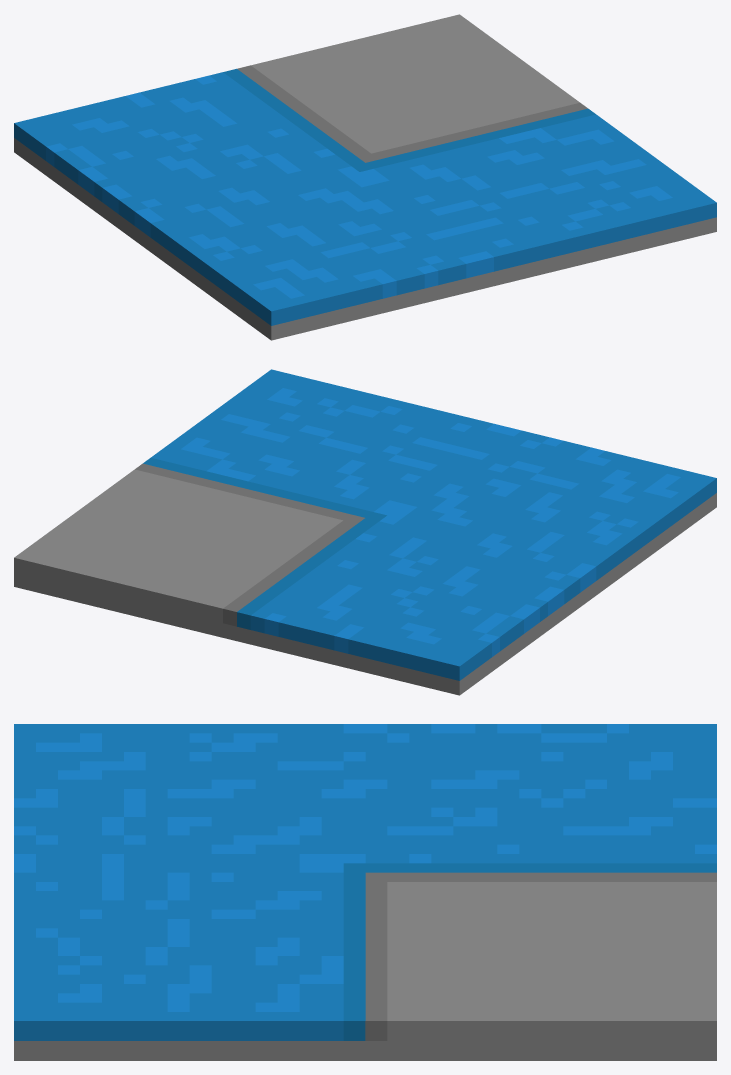
File: city-water-edgy-edge-outer-2.gltf
3 renders of one model, top to bottom at view 1: azimuth 30°, elevation 25°; view 2: azimuth 150°, elevation 25°; view 3: azimuth 270°, elevation 25°, orthographic. The views are drawn at different scales.
Visible parts, largest first — view 1: city-water-edgy-edge-outer-2_model; view 2: city-water-edgy-edge-outer-2_model; view 3: city-water-edgy-edge-outer-2_model.
Boxes of the visible parts, box(x1,y1,x2,y2) form: city-water-edgy-edge-outer-2_model: box(14, 14, 716, 340); city-water-edgy-edge-outer-2_model: box(14, 369, 716, 695); city-water-edgy-edge-outer-2_model: box(14, 724, 716, 1060).
Bounding box in the file's own units: 3.2 × 0.2 × 3.2.
Materials: 1 (1 with a texture image).
